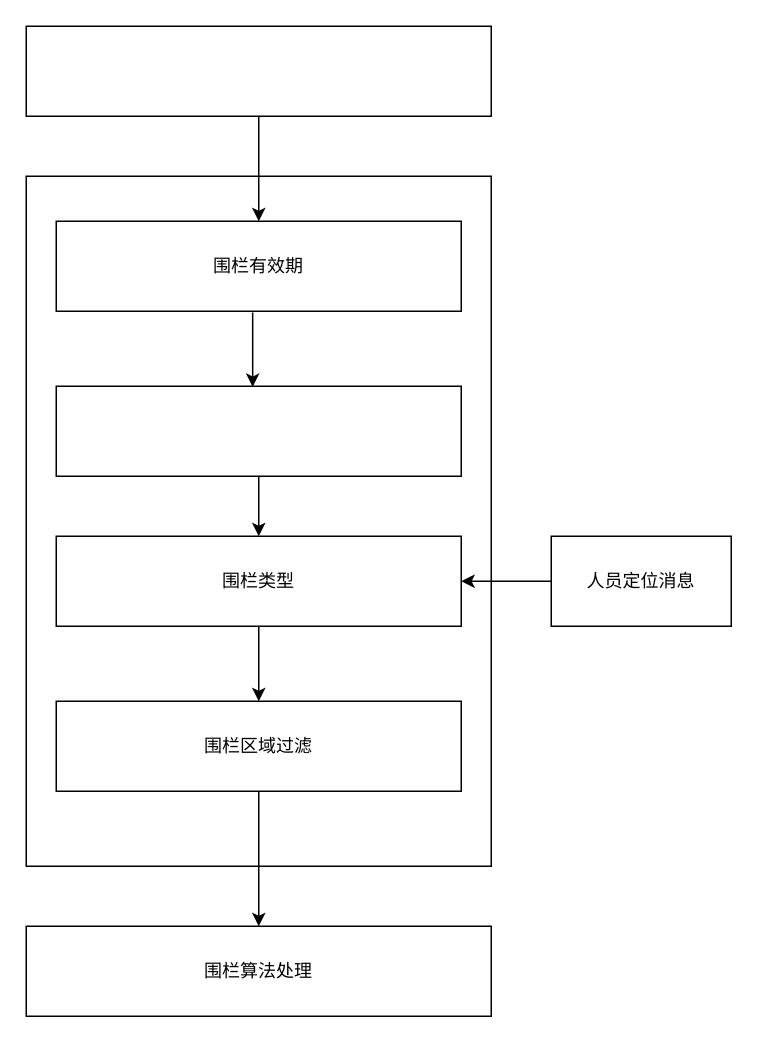
Image size: 758x1043. Some labels were removed from this diagram. Each missing label, with the box of its shape:
围栏事件范围: (55, 385, 461, 476)
围栏配置信息: (25, 25, 491, 116)
